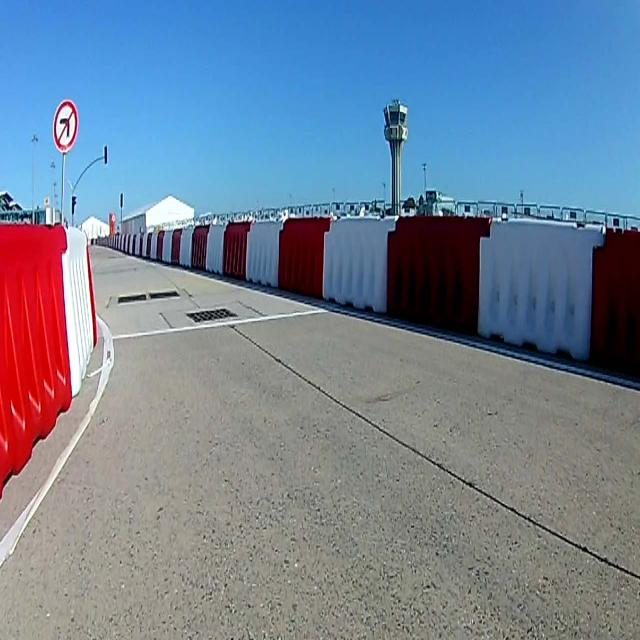soladonulmez: (52, 99, 78, 153)
